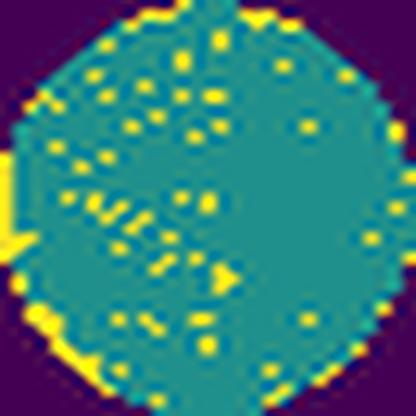Edge-Loc: (26, 299, 118, 405), (0, 148, 42, 272)
